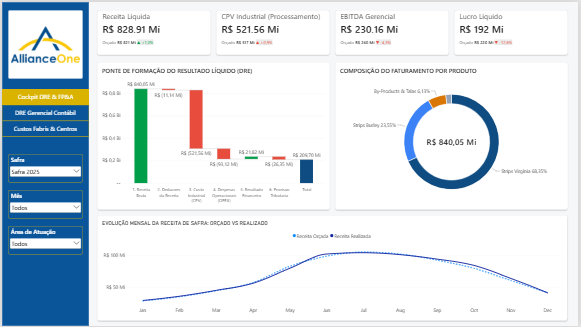

This screenshot's page, from the dashboard's own definition file:
{"tool":"powerbi","page":{"name":"Cockpit DRE & FP&A","canvas":[1920,1080],"ordinal":0},"visuals":[{"type":"shape","box":[0,0,290,1080],"z":0},{"type":"pageNavigator","box":[0,288.8,290,160],"z":1000},{"type":"slicer","fields":{"Values":["Dim_Calendario.Safra_Ano"]},"box":[20,506.7,250,95],"z":2000},{"type":"slicer","fields":{"Values":["Dim_Calendario.NomeMes"]},"box":[20,626.7,250,95],"z":3000},{"type":"slicer","fields":{"Values":["Dim_CentroCusto.Area_Negocio"]},"box":[20,746.7,250,95],"z":4000},{"type":"cardVisual","fields":{"Data":["_Medidas.Receita Liquida Real"]},"box":[316.7,26.7,380,150],"z":5000},{"type":"cardVisual","fields":{"Data":["_Medidas.CPV Industrial Real"]},"box":[712.8,26.7,380,150],"z":6000},{"type":"cardVisual","fields":{"Data":["_Medidas.EBITDA Gerencial Real"]},"box":[1108.9,26.7,380,150],"z":7000},{"type":"cardVisual","fields":{"Data":["_Medidas.Lucro Liquido Real"]},"box":[1505,26.7,380,150],"z":8000},{"type":"waterfallChart","title":"PONTE DE FORMAÇÃO DO RESULTADO LÍQUIDO (DRE)","fields":{"Category":["Dim_PlanoContas.Nivel1"],"Y":["_Medidas.DRE Valor Customizado"]},"box":[316.7,198.3,776.7,491.7],"z":9000},{"type":"lineChart","title":"EVOLUÇÃO MENSAL DA RECEITA DE SAFRA: ORÇADO VS REALIZADO","fields":{"Category":["Dim_Calendario.NomeMes"],"Y":["_Medidas.Receita Bruta Orcada","_Medidas.Receita Bruta Real"]},"box":[316.7,710,1568.3,351.7],"z":10000},{"type":"donutChart","title":"COMPOSIÇÃO DO FATURAMENTO POR PRODUTO","fields":{"Category":["Dim_PlanoContas.Nome_Produto_Curto"],"Y":["_Medidas.Receita Bruta Real"]},"box":[1108.3,198.3,776.7,491.7],"z":11000},{"type":"shape","box":[20,26.7,250,230],"z":12000},{"type":"image","box":[30,26.7,230,230],"z":13000}]}

Visuals, with their boxes on the page's 1920x1080 design canvas (x1, y1, x2, y2). These are canvas units, not pixel positions in the 581x327 screenshot, which may show the page scaled, cropped or inside an application window:
shape: {"left": 0, "top": 0, "right": 290, "bottom": 1080}
pageNavigator: {"left": 0, "top": 289, "right": 290, "bottom": 449}
slicer - Dim_Calendario.Safra_Ano: {"left": 20, "top": 507, "right": 270, "bottom": 602}
slicer - Dim_Calendario.NomeMes: {"left": 20, "top": 627, "right": 270, "bottom": 722}
slicer - Dim_CentroCusto.Area_Negocio: {"left": 20, "top": 747, "right": 270, "bottom": 842}
cardVisual - _Medidas.Receita Liquida Real: {"left": 317, "top": 27, "right": 697, "bottom": 177}
cardVisual - _Medidas.CPV Industrial Real: {"left": 713, "top": 27, "right": 1093, "bottom": 177}
cardVisual - _Medidas.EBITDA Gerencial Real: {"left": 1109, "top": 27, "right": 1489, "bottom": 177}
cardVisual - _Medidas.Lucro Liquido Real: {"left": 1505, "top": 27, "right": 1885, "bottom": 177}
"PONTE DE FORMAÇÃO DO RESULTADO LÍQUIDO (DRE)" waterfallChart: {"left": 317, "top": 198, "right": 1093, "bottom": 690}
"EVOLUÇÃO MENSAL DA RECEITA DE SAFRA: ORÇADO VS REALIZADO" lineChart: {"left": 317, "top": 710, "right": 1885, "bottom": 1062}
"COMPOSIÇÃO DO FATURAMENTO POR PRODUTO" donutChart: {"left": 1108, "top": 198, "right": 1885, "bottom": 690}
shape: {"left": 20, "top": 27, "right": 270, "bottom": 257}
image: {"left": 30, "top": 27, "right": 260, "bottom": 257}
